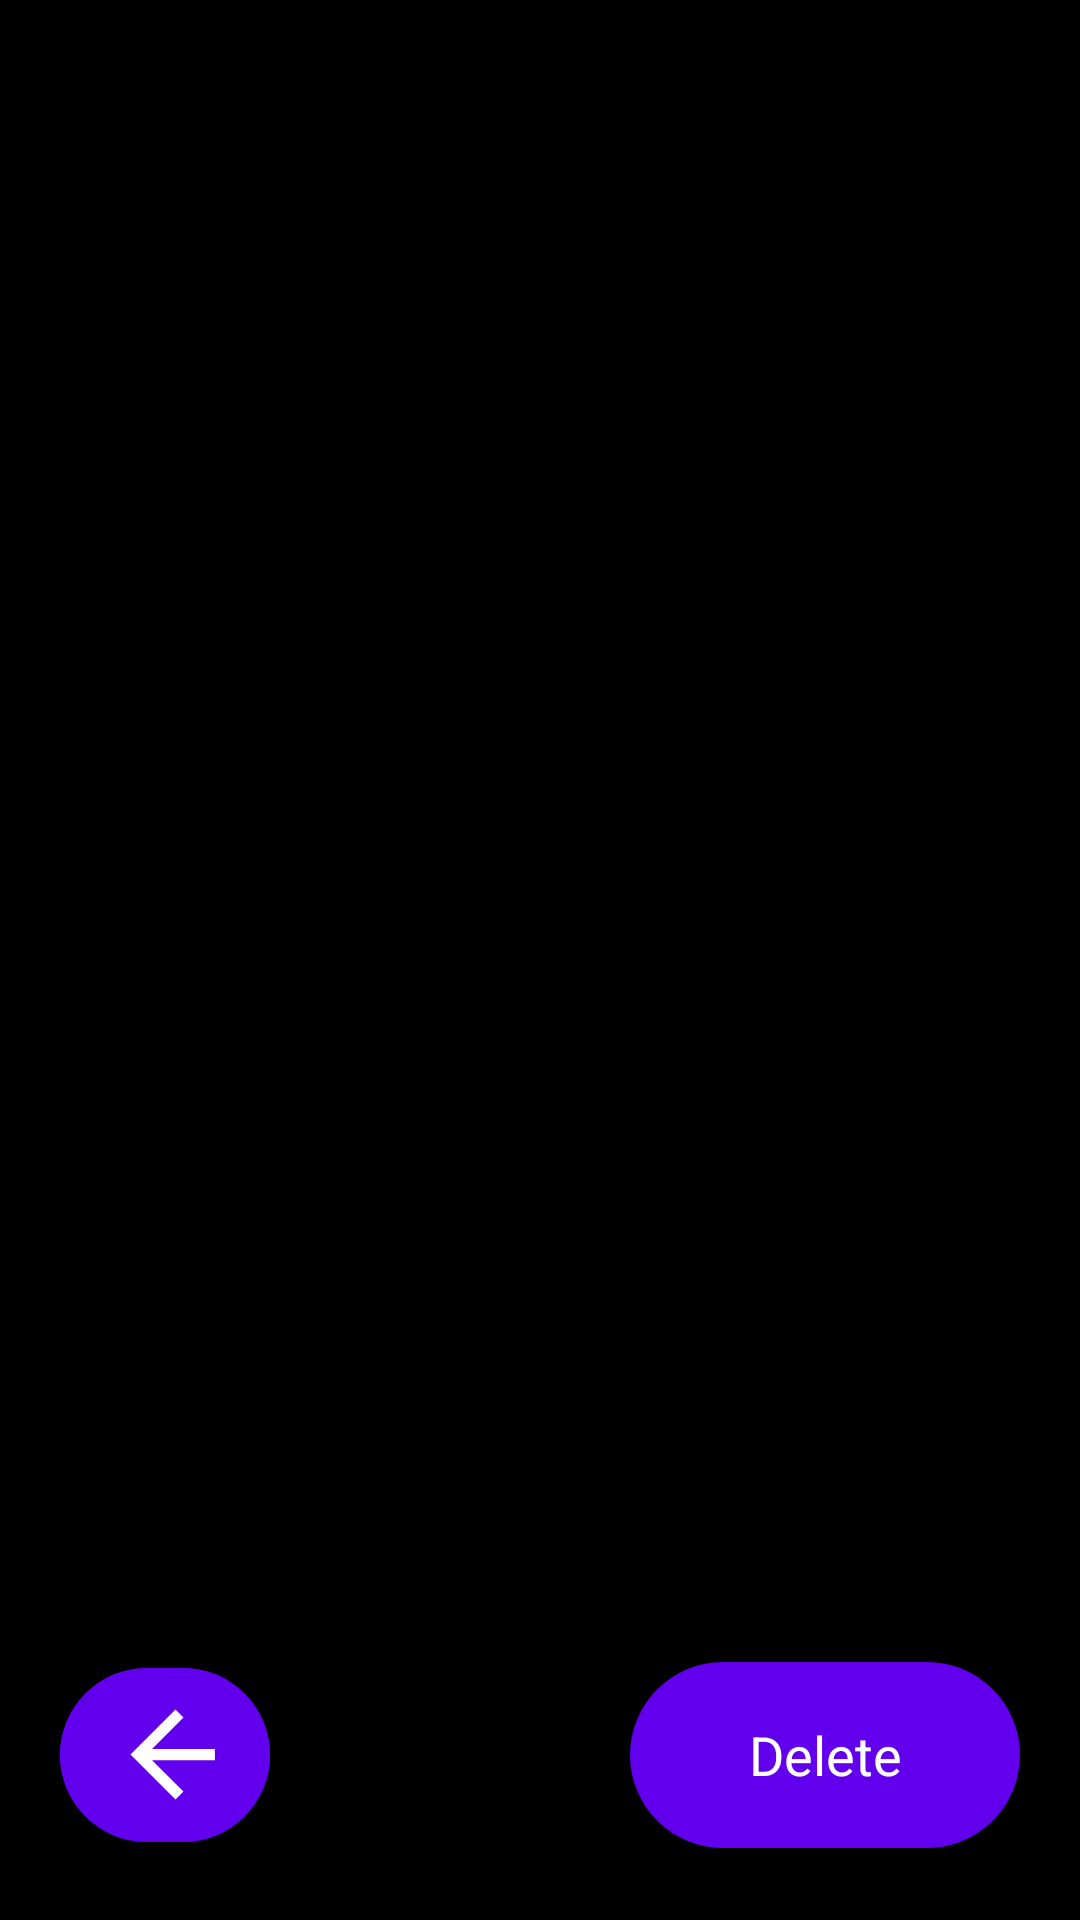

Screen size 1080 × 1920. Icon name, then its box in pixels as (left=x1, top=y1, right=x2, bottom=y2):
arrow left: (left=60, top=1668, right=270, bottom=1842)
